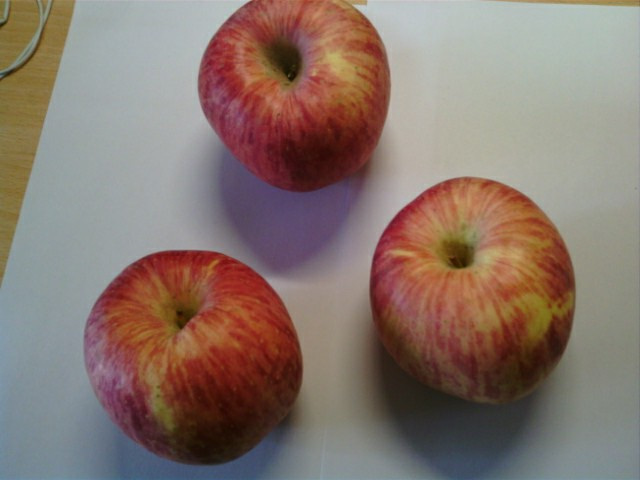normal_apple: (81, 249, 305, 469), (370, 176, 579, 407), (198, 1, 391, 192)
